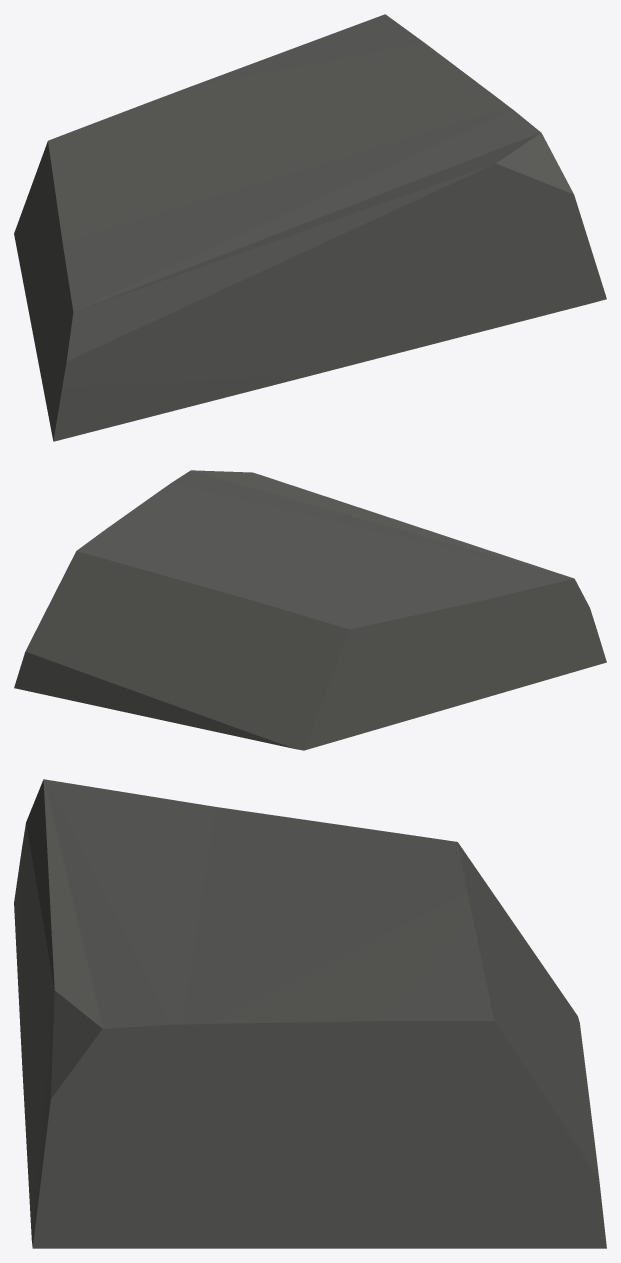
File: SM_Envr_Nature_Rock_03.fbx
3 views of the same model, one above another, from view 1: azimuth 30°, elevation 25°; view 2: azimuth 150°, elevation 25°; view 3: azimuth 270°, elevation 25° (orthographic). The views are drawn at different scales.
Parts seen in each view (by area): view 1: SM_Envr_Nature_Rock_03; view 2: SM_Envr_Nature_Rock_03; view 3: SM_Envr_Nature_Rock_03.
Part boxes in pixels (box(x1,y1,x2,y2)): SM_Envr_Nature_Rock_03: box(14, 14, 606, 441); SM_Envr_Nature_Rock_03: box(14, 470, 606, 750); SM_Envr_Nature_Rock_03: box(14, 779, 606, 1248).
Size of the model in its own units: 190 by 52.27 by 138.
